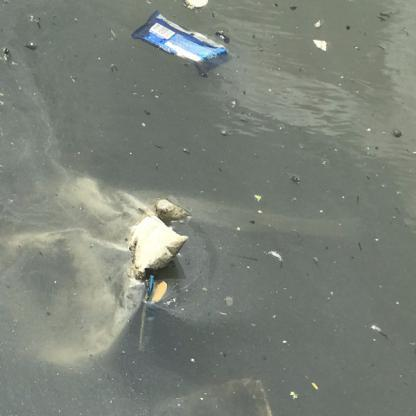plastic bag: (37, 180, 190, 360), (131, 10, 231, 72)
